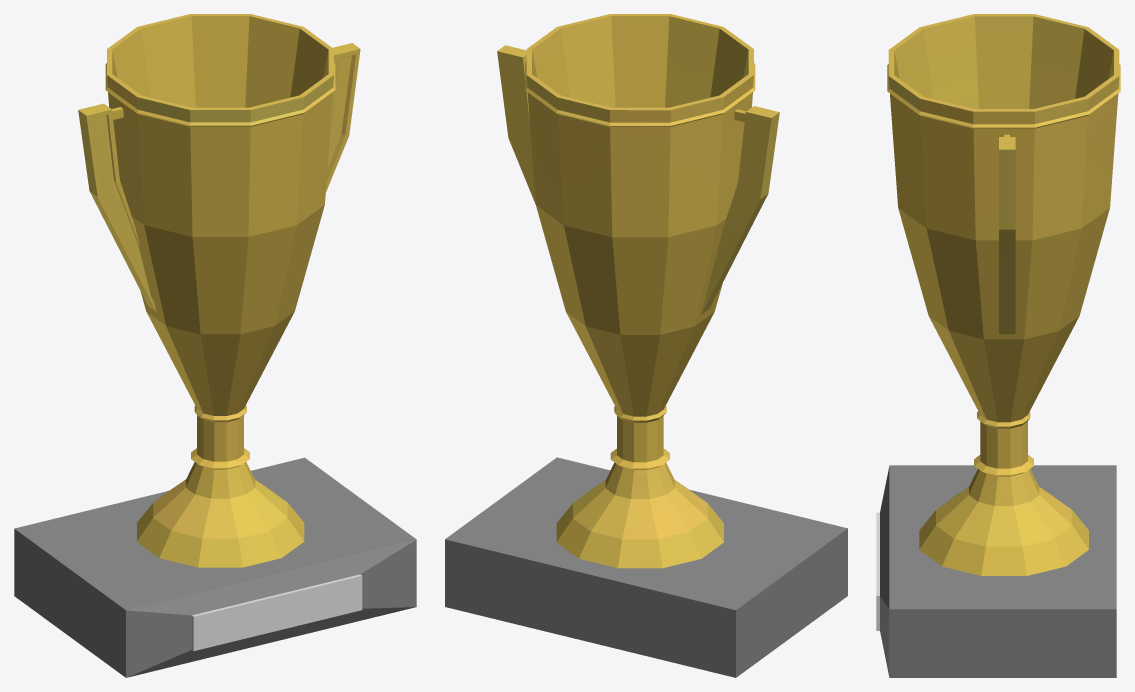
Rendered from pp.trophy_fly8.glb.
3 views of the same model, side by side, from view 1: azimuth 30°, elevation 25°; view 2: azimuth 150°, elevation 25°; view 3: azimuth 270°, elevation 25° (orthographic).
Visible parts, largest first — view 1: Trophy; view 2: Trophy; view 3: Trophy.
Boxes of the visible parts, x1,y1,x2,y2 form: Trophy: [14, 14, 416, 677]; Trophy: [445, 14, 847, 677]; Trophy: [876, 14, 1120, 677].
Size of the model in its own units: 0.2264 by 0.4004 by 0.1625.
1 material, 1 textured.
